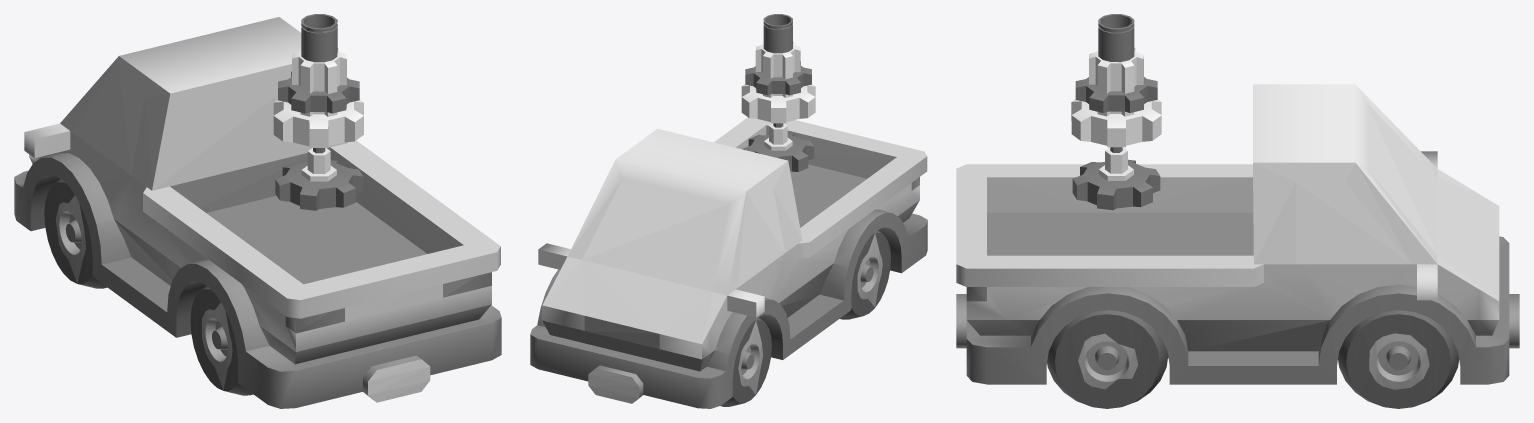
Rendered from monsoon_tube.glb.
3 renders of one model, left to right at view 1: azimuth 30°, elevation 25°; view 2: azimuth 150°, elevation 25°; view 3: azimuth 270°, elevation 25°, orthographic. The views are drawn at different scales.
Parts seen in each view (by area): view 1: Body, Turret; view 2: Body, Turret; view 3: Body, Turret.
Boxes of the visible parts, <box> form: Body: <box>14,17,501,408</box>; Turret: <box>273,14,363,210</box>; Body: <box>530,117,927,408</box>; Turret: <box>741,14,815,171</box>; Body: <box>956,84,1519,408</box>; Turret: <box>1071,14,1161,210</box>.
Size of the model in its own units: 3.55 by 4.38 by 6.5.
2 materials, 1 textured.
